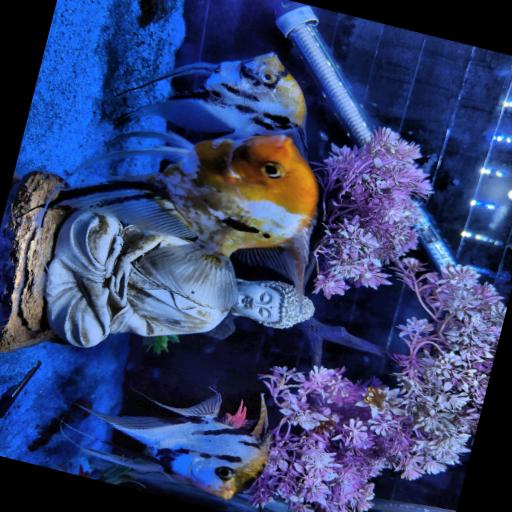Fish: (57, 131, 318, 308), (79, 393, 269, 500), (127, 53, 305, 156)
